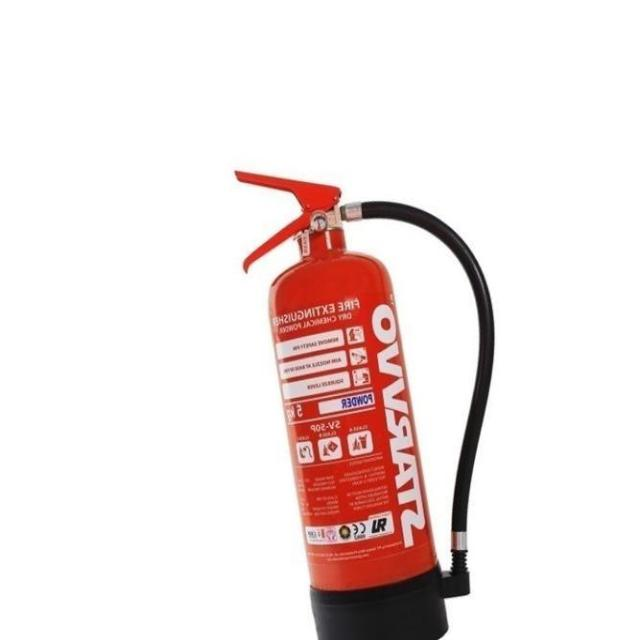fire_extinguisher: (230, 166, 500, 639)
